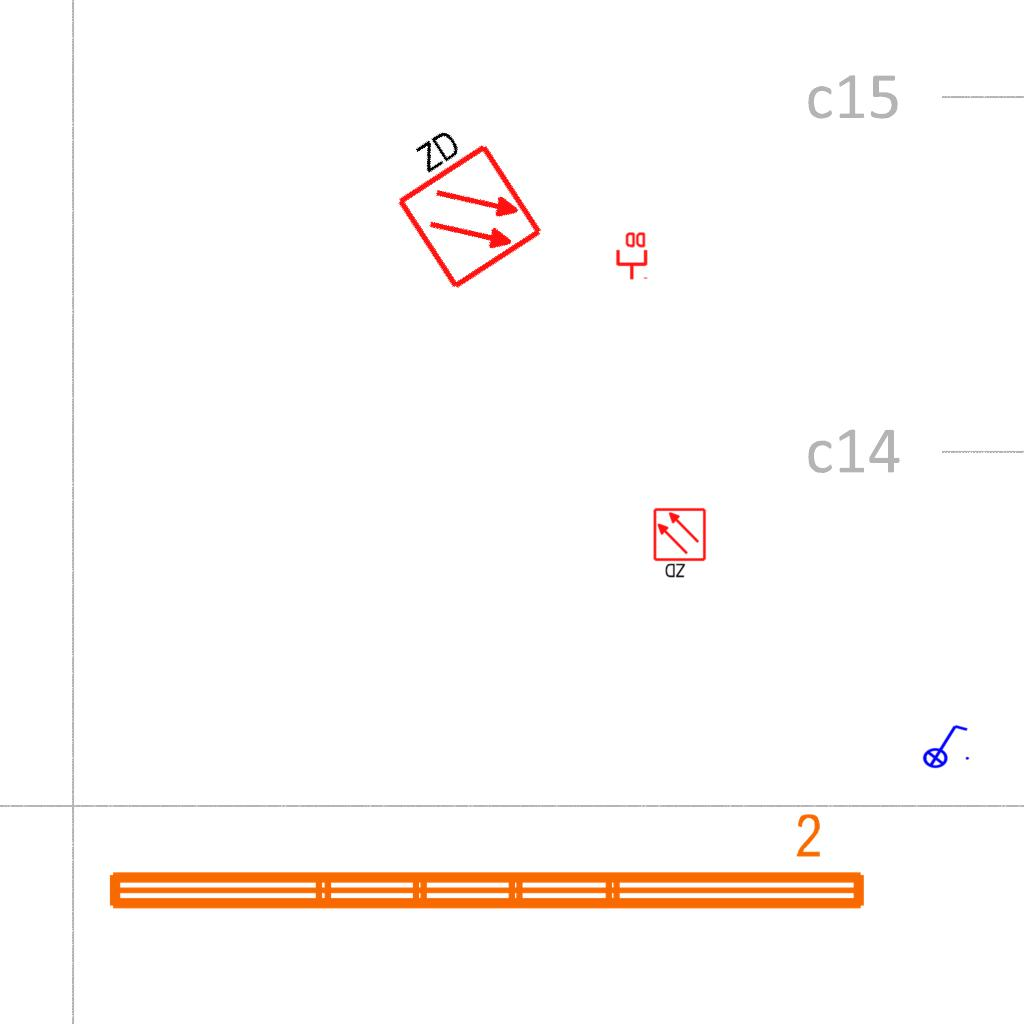Ambulanz_Pendelleuchte_LED: (99, 809, 873, 921)
Ausschalter_beleuchtet: (916, 721, 972, 769)
Datenanschluss_zweifach: (614, 230, 648, 281)
ZD_Melder_in_Zwischendecke_mit_Revisionsoeffnung_mind_40_x_40_cm: (369, 107, 547, 296), (652, 507, 709, 581)
